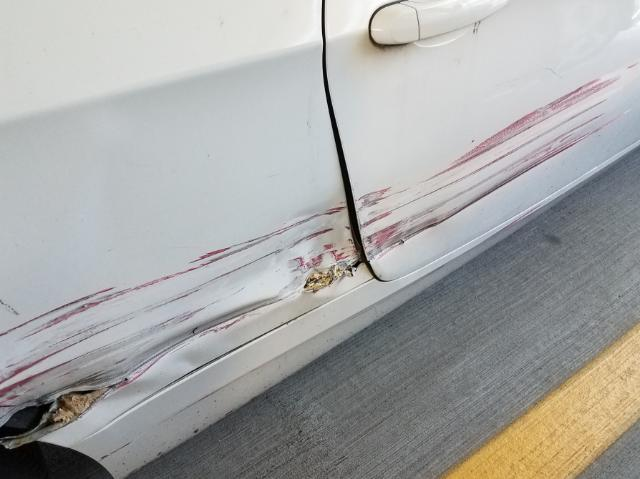Door: (2, 194, 363, 442), (352, 69, 640, 250)
